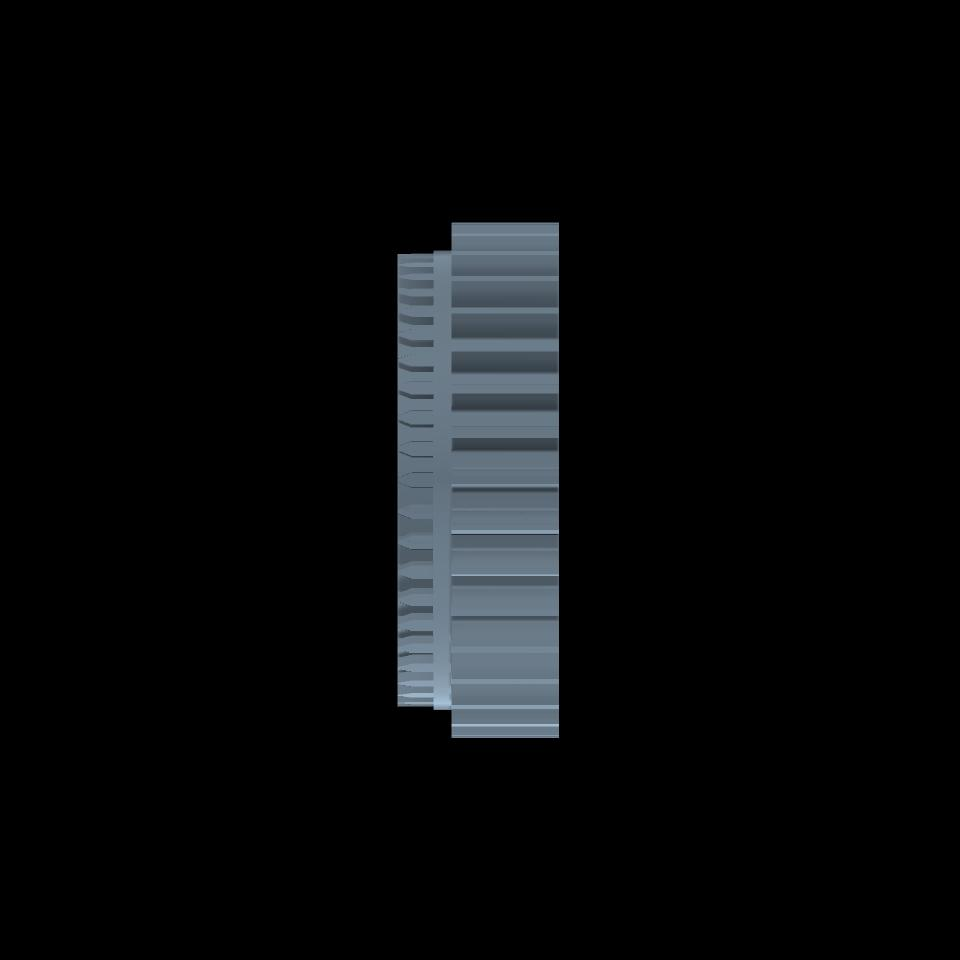Straight: (452, 223, 559, 738), (410, 253, 436, 705)
